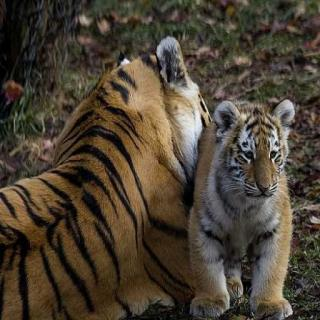Tiger: (0, 29, 229, 320), (177, 70, 314, 294)
